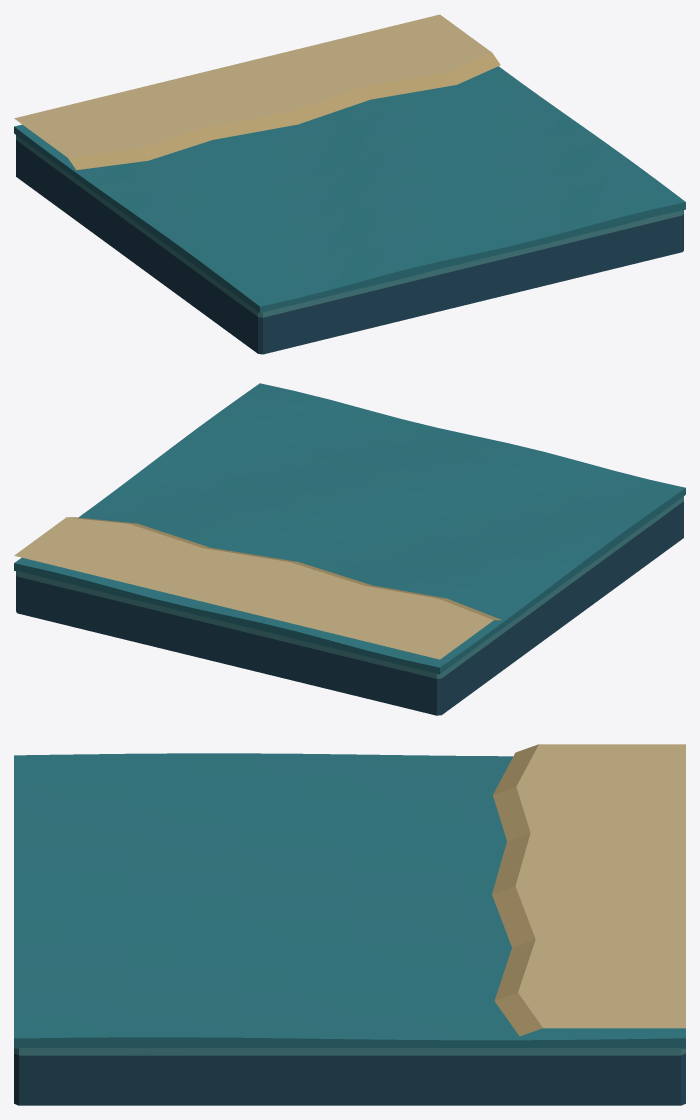
The picture shows the model from 3 angles, top to bottom: view 1: azimuth 30°, elevation 25°; view 2: azimuth 150°, elevation 25°; view 3: azimuth 270°, elevation 25°; orthographic projection. The views are drawn at different scales.
Visible parts, largest first — view 1: B10_港湾浅滩; view 2: B10_港湾浅滩; view 3: B10_港湾浅滩.
Part boxes in pixels (x1=…): B10_港湾浅滩: x1=14, y1=14, x2=685, y2=354; B10_港湾浅滩: x1=14, y1=383, x2=685, y2=715; B10_港湾浅滩: x1=14, y1=744, x2=685, y2=1105.
Size of the model in its own units: 8 by 1.02 by 8.
